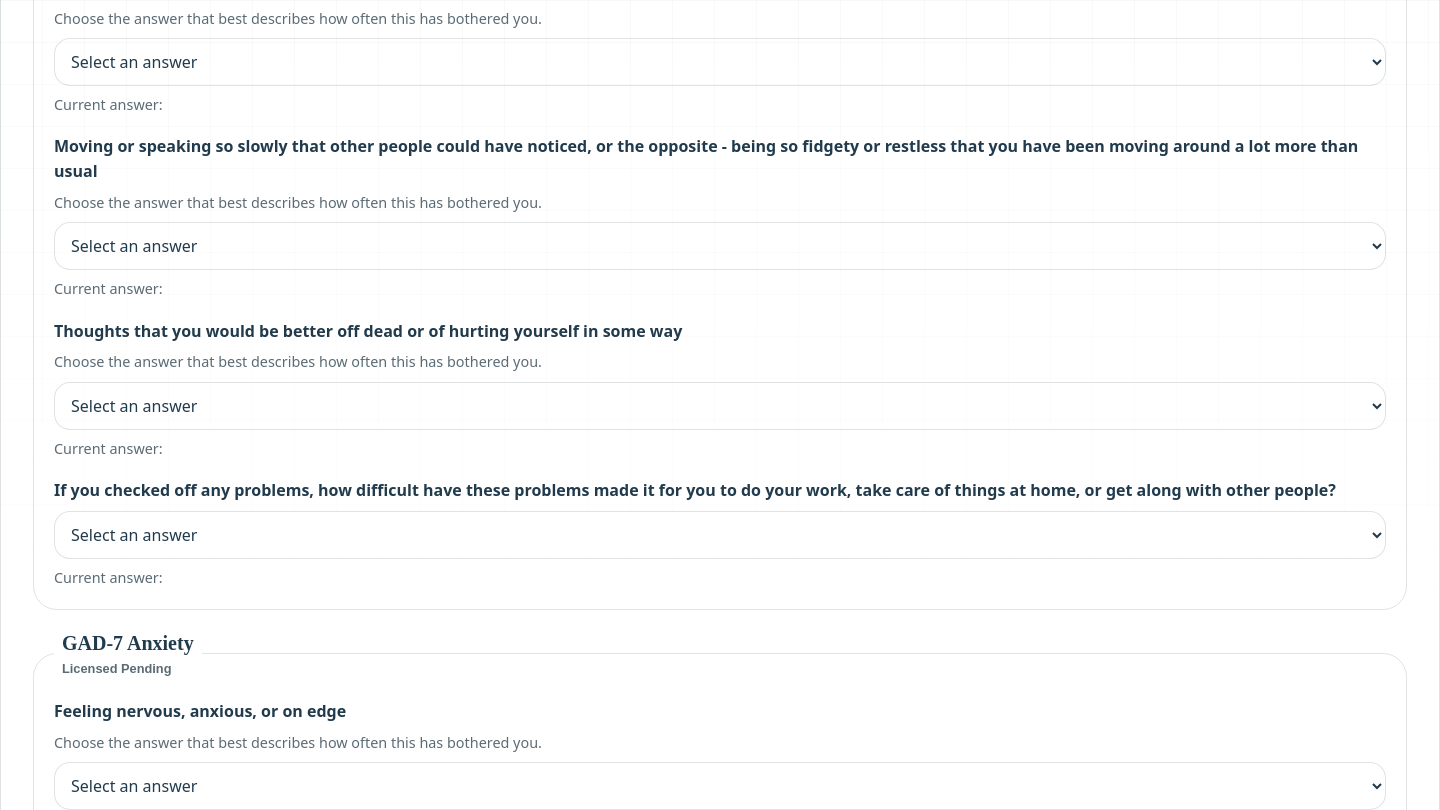
Test: ScreeningDemo › shows immediate crisis resources when PHQ-9 question 9 is above not at all
(page scrolled)
Step 1. Select "Several days" in the dropdown labelled "Thoughts that you would be better off dead or of hurting yourself in some way" → x=720, y=406, box [54, 382, 1386, 430]
(page scrolled)
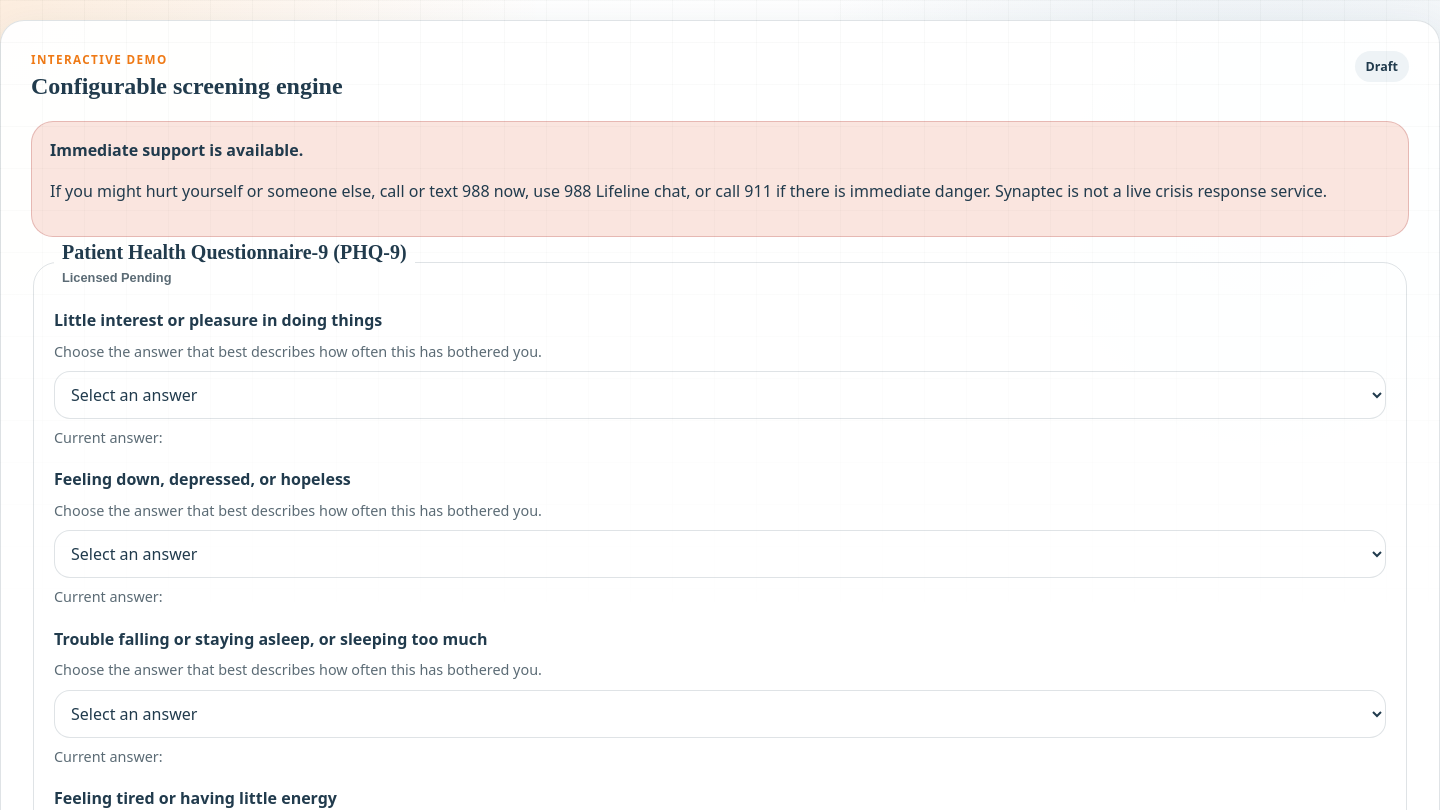
Result: the message shows "call or text 988" at [50, 180, 1327, 202]
